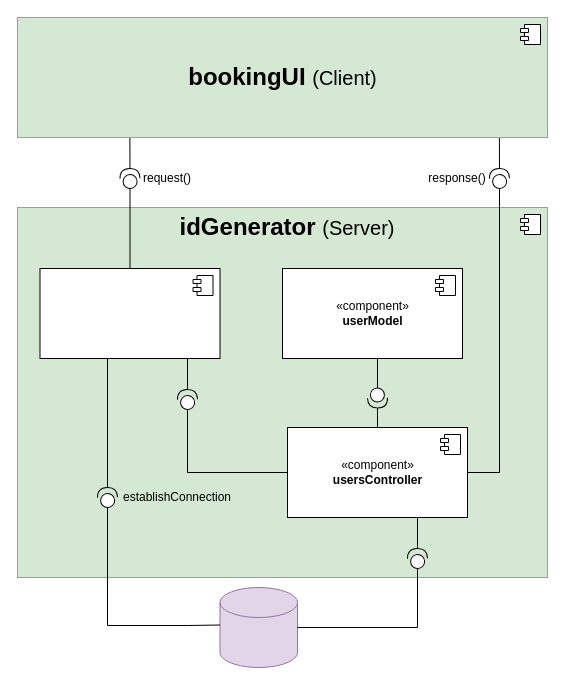
Some shapes in this 565 by 685 pixel diagram are drawn without their labels. Each missing label, with the box of its shape:
(MongoDB) users DB: (219, 586, 298, 668)
«component» app: (39, 268, 220, 358)
